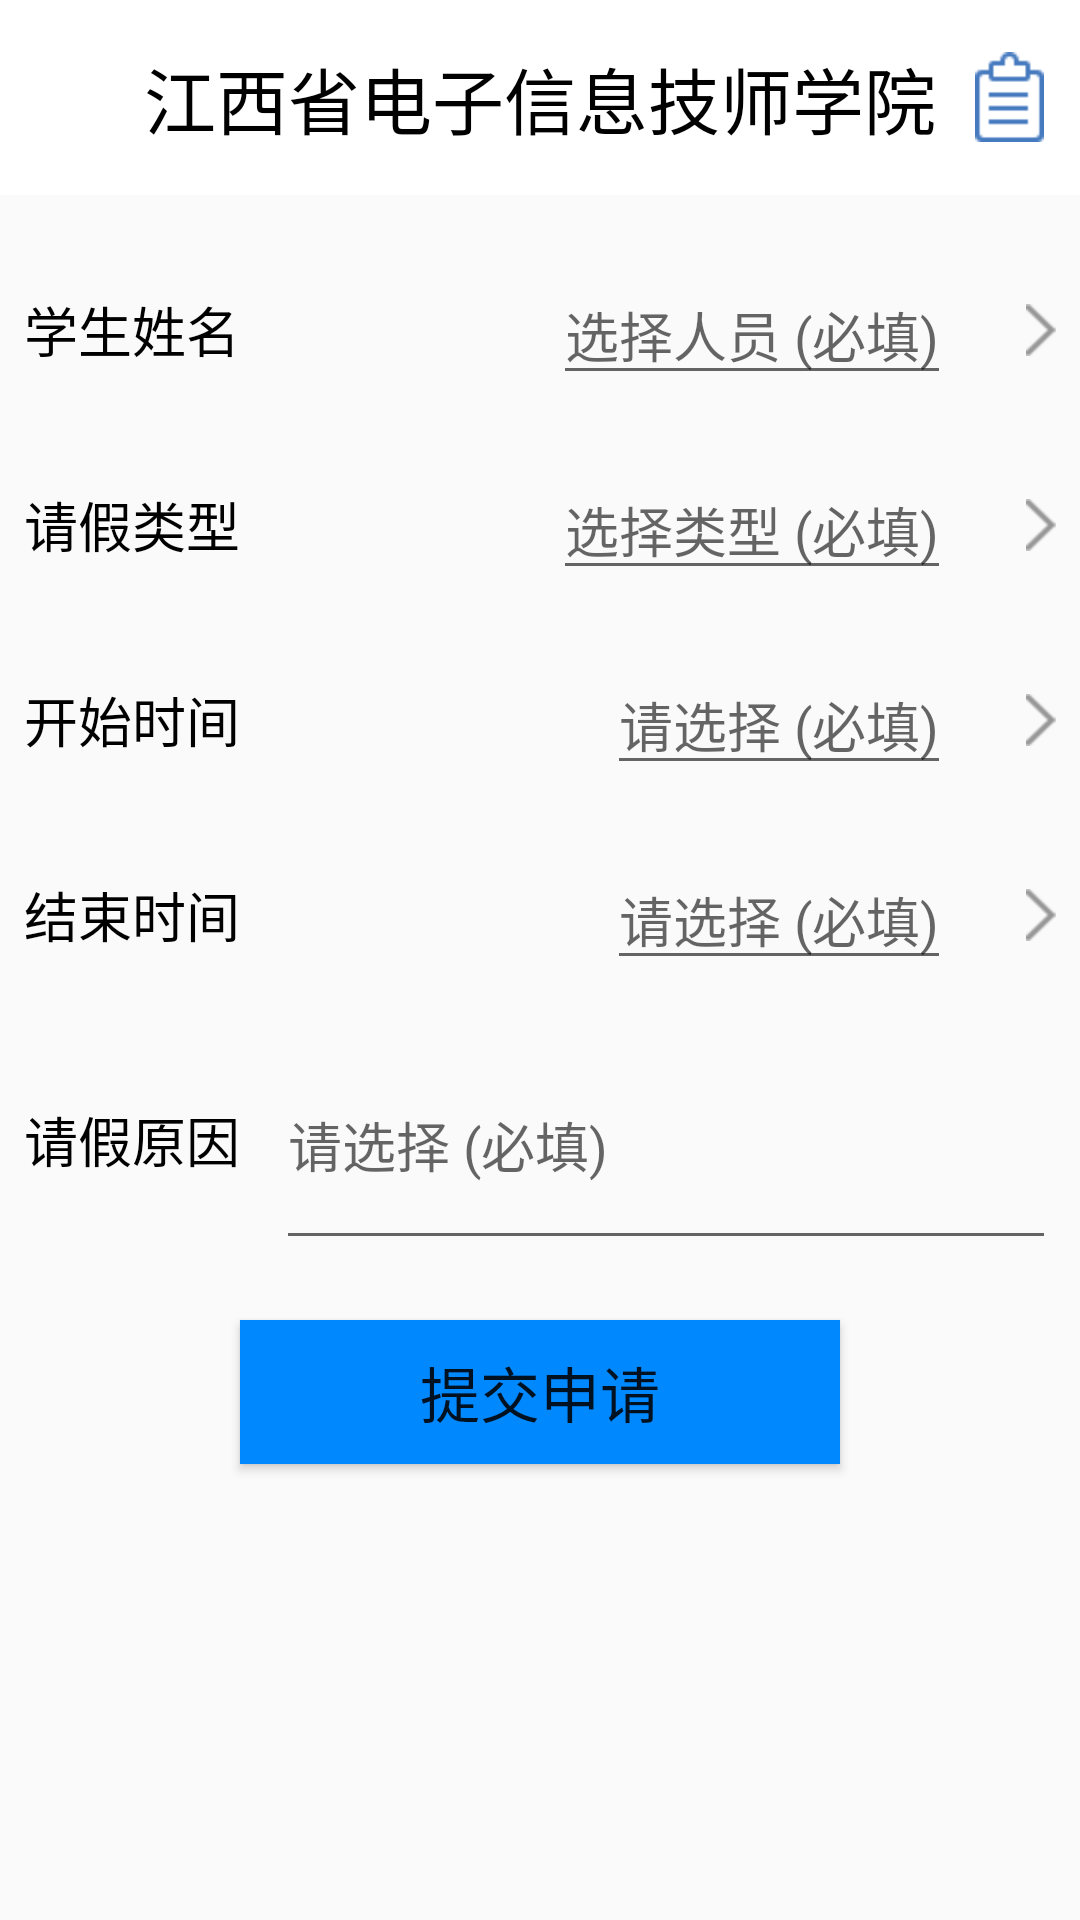

Where icons sit on this 1080x1920 app screen, as (x1, y1, x2, y2):
home record: (975, 52, 1044, 142)
select arrow: (1026, 304, 1056, 356), (1026, 499, 1056, 551), (1026, 694, 1056, 746), (1026, 889, 1056, 941)
